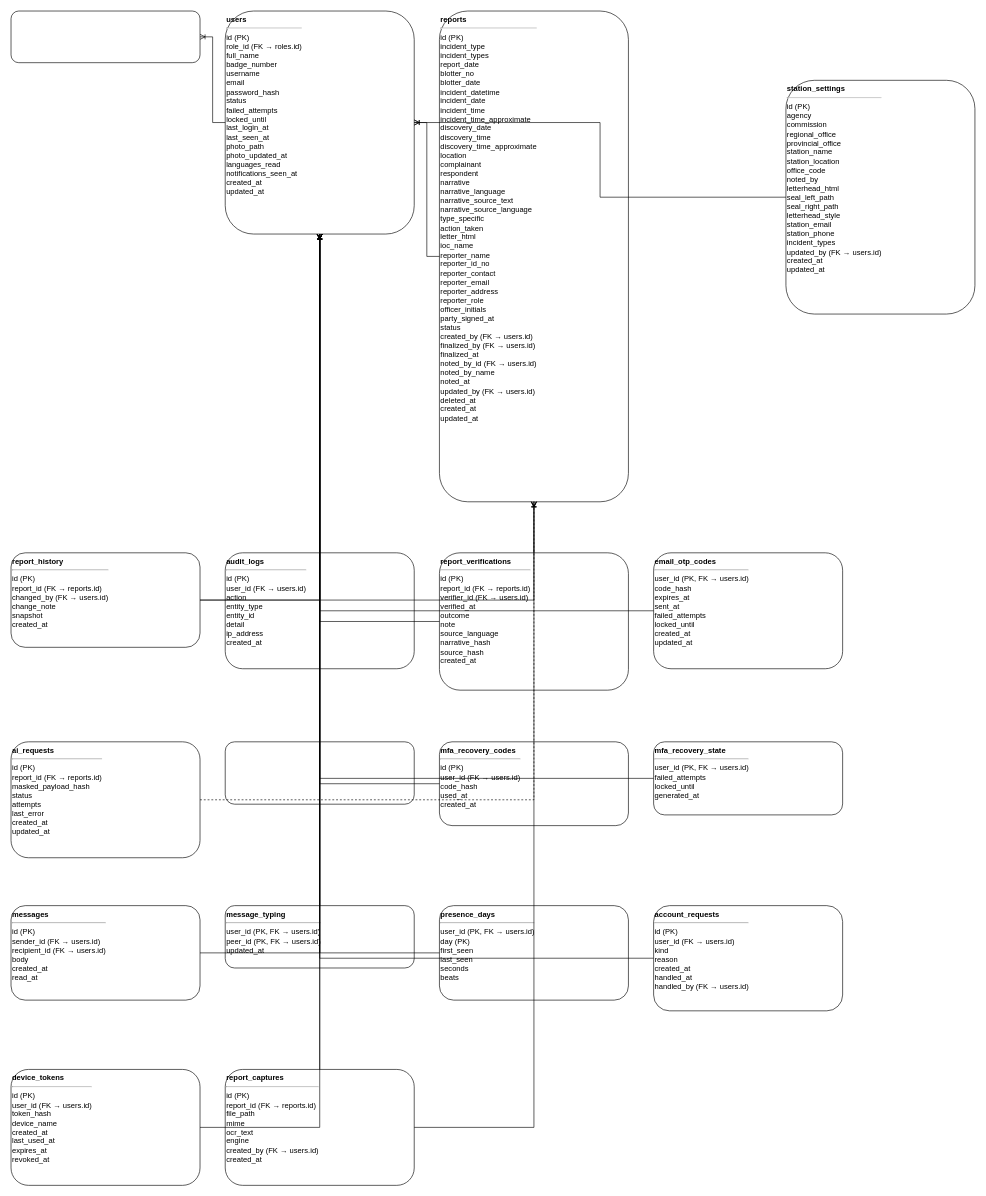
This 986x1196 diagram has some shape labels left out. Here are the shapes that lost their labels. From the top down, the box of each, then its label:
(10, 10, 200, 63): roles id (PK) name
(225, 741, 414, 804): ai_cache payload_hash (PK) payload created_at
